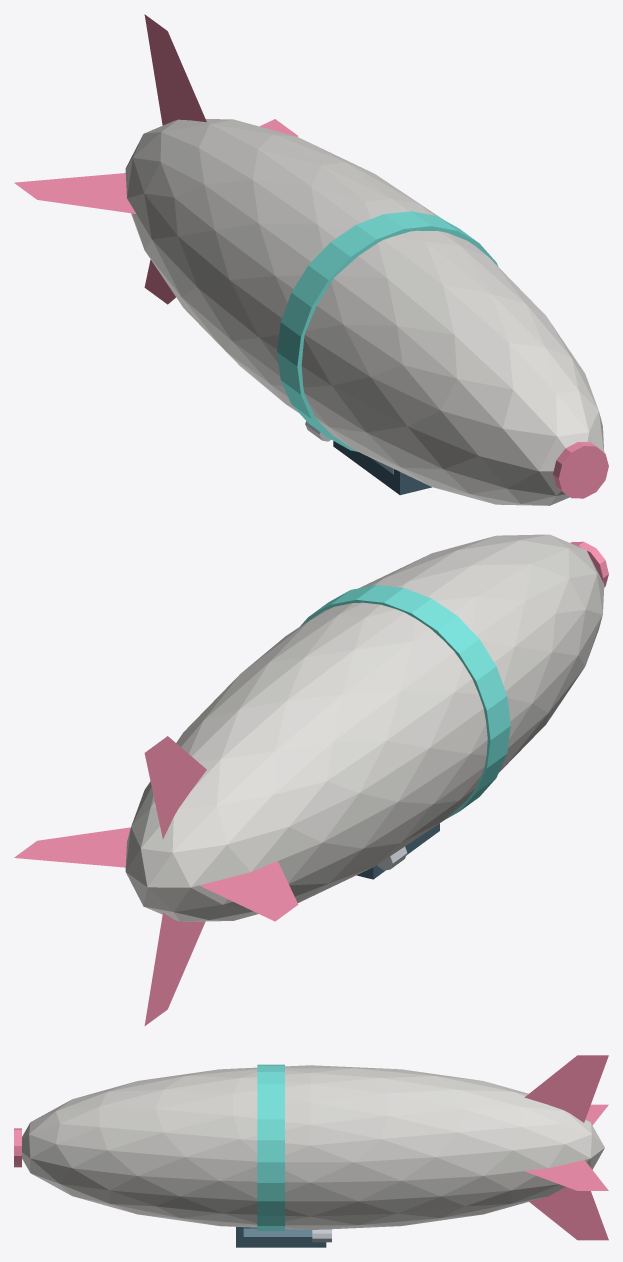
File: Blimp.fbx
3 renders of one model, top to bottom at view 1: azimuth 30°, elevation 25°; view 2: azimuth 150°, elevation 25°; view 3: azimuth 270°, elevation 25°, orthographic. The views are drawn at different scales.
Parts seen in each view (by area): view 1: Blimp; view 2: Blimp; view 3: Blimp.
Boxes of the visible parts, <box> form: Blimp: <box>14,14,608,505</box>; Blimp: <box>14,534,608,1025</box>; Blimp: <box>14,1055,608,1247</box>.
Bounding box in the file's own units: 10.4 × 10.45 × 30.3.
